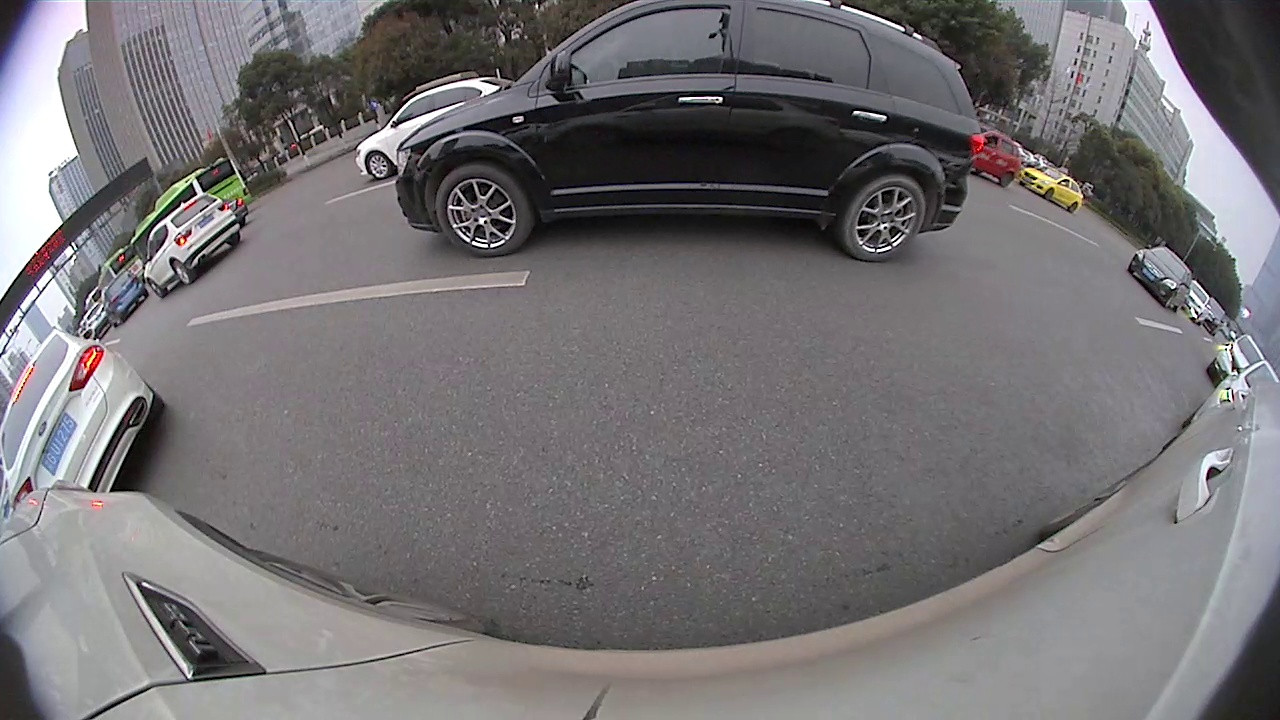car: (392, 1, 980, 265), (4, 326, 167, 501), (351, 75, 514, 181), (140, 192, 244, 301), (1130, 242, 1193, 315), (1019, 165, 1089, 217), (974, 124, 1019, 192)
front: (433, 160, 536, 254), (365, 154, 392, 179), (172, 258, 193, 286)
rear: (836, 173, 926, 263)
